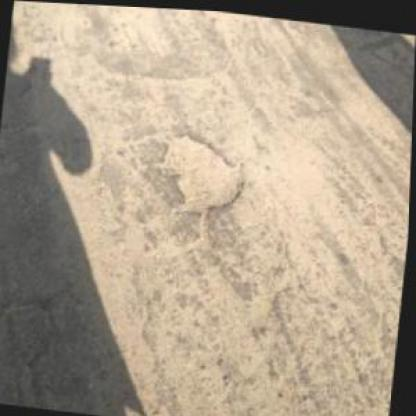pothole: (154, 128, 252, 219)
